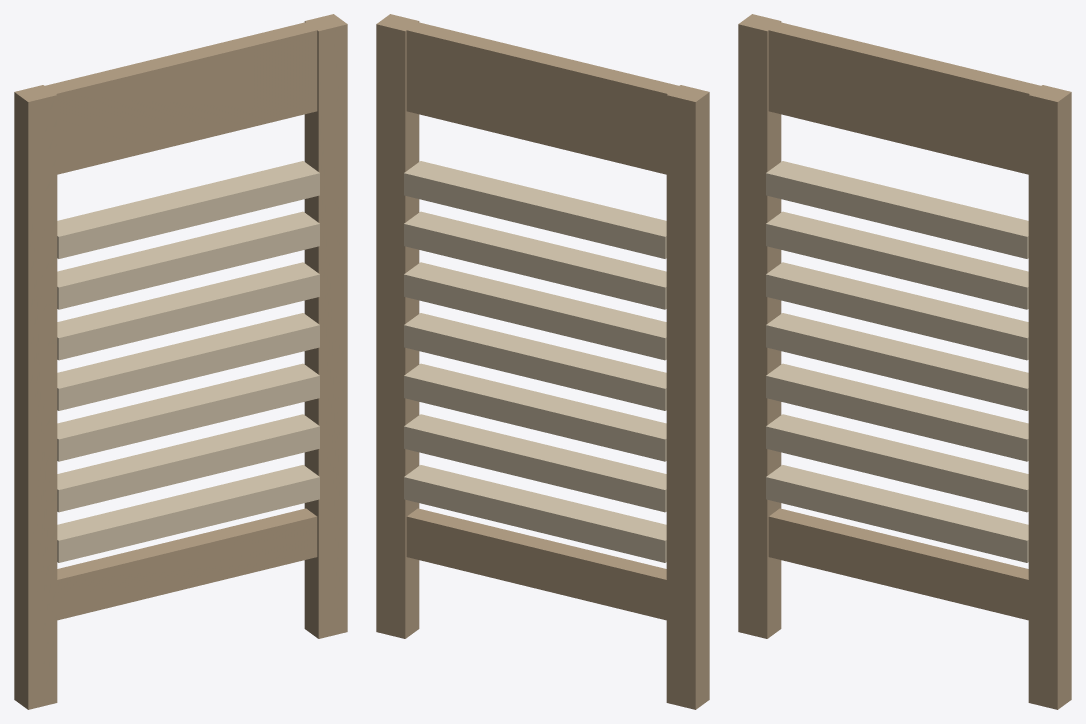
File: prop-washboard-blank.fbx
3 views of the same model, side by side, from view 1: azimuth 30°, elevation 25°; view 2: azimuth 150°, elevation 25°; view 3: azimuth 330°, elevation 25° (orthographic).
Parts seen in each view (by area): view 1: prop-washboard-blank; view 2: prop-washboard-blank; view 3: prop-washboard-blank.
Boxes of the visible parts, left/top/right/bottom form: prop-washboard-blank: left=14, top=14, right=347, bottom=709; prop-washboard-blank: left=376, top=14, right=709, bottom=709; prop-washboard-blank: left=738, top=14, right=1071, bottom=709.
Bounding box in the file's own units: 33 × 60 × 3.
